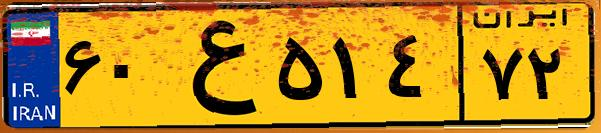0: (110, 28, 158, 98)
1: (330, 28, 385, 110)
2: (525, 38, 570, 115)
4: (385, 28, 445, 110)
5: (270, 28, 330, 110)
6: (57, 26, 110, 100)
7: (475, 38, 525, 113)
ع: (158, 12, 270, 120)
